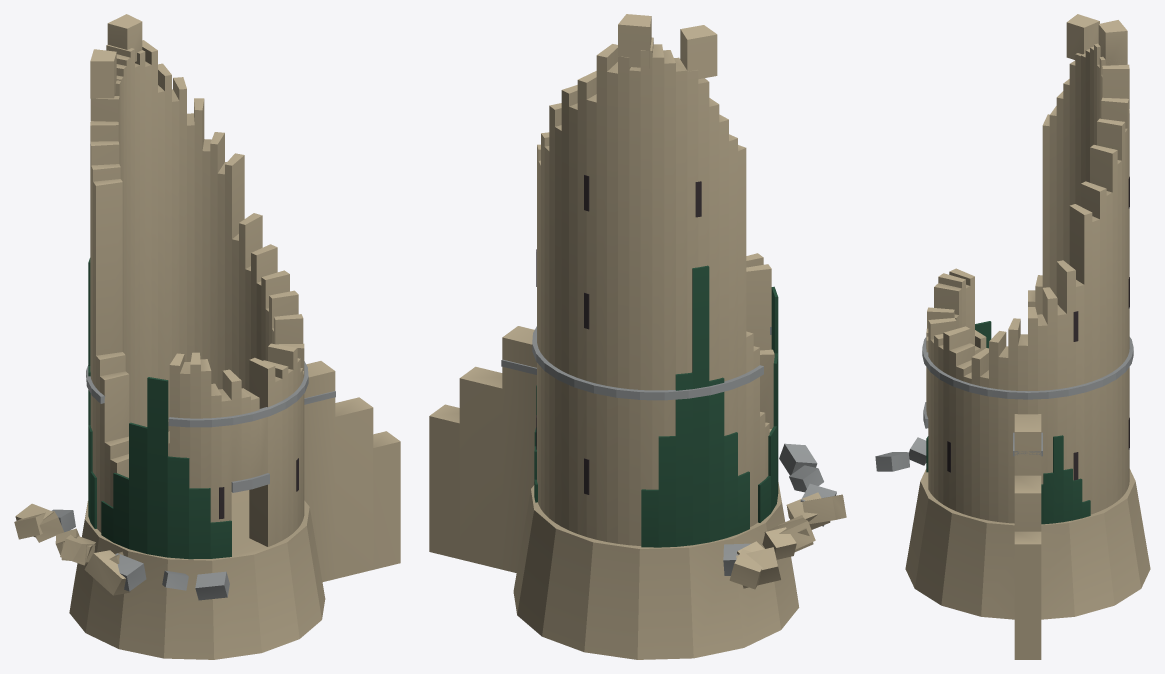
File: tower.glb
3 renders of one model, left to right at view 1: azimuth 30°, elevation 25°; view 2: azimuth 150°, elevation 25°; view 3: azimuth 270°, elevation 25°, orthographic. The views are drawn at different scales.
Visible parts, largest first — view 1: tower; view 2: tower; view 3: tower.
Part boxes in pixels (left/top/right/bottom): tower: left=14, top=14, right=400, bottom=659; tower: left=429, top=14, right=846, bottom=659; tower: left=875, top=14, right=1150, bottom=659.
Bounding box in the file's own units: 12.56 × 19.55 × 9.2.
